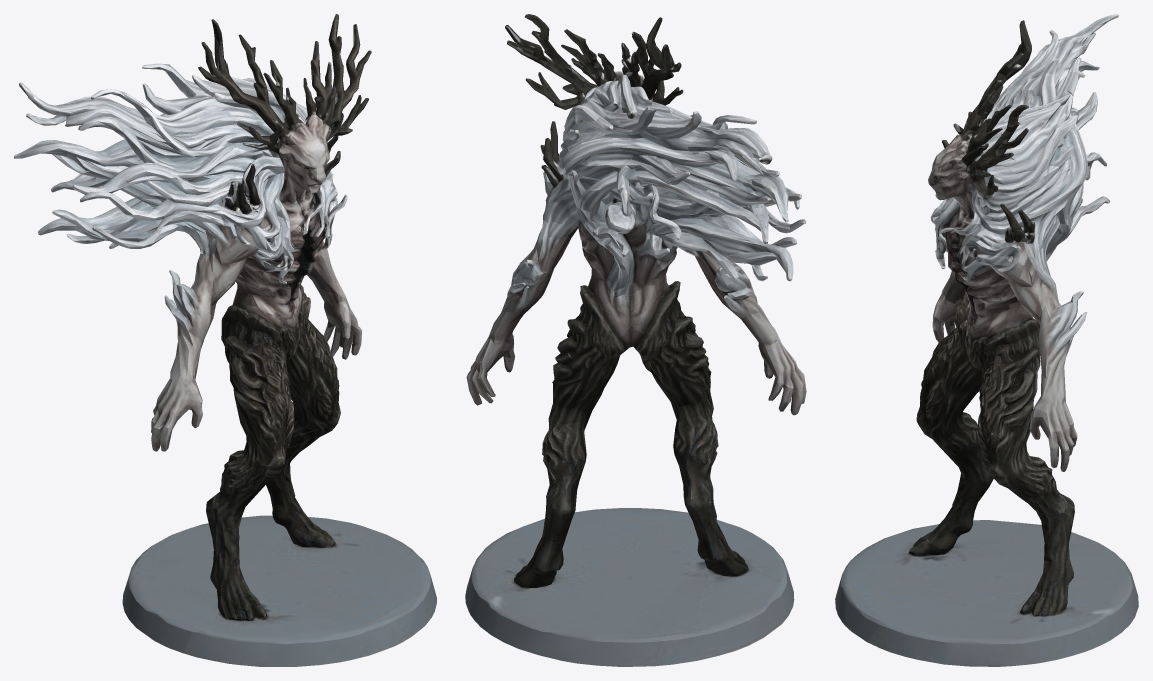
The model's file is esmeria.glb.
The picture shows the model from 3 angles, left to right: view 1: azimuth 30°, elevation 25°; view 2: azimuth 150°, elevation 25°; view 3: azimuth 270°, elevation 25°; orthographic projection. The views are drawn at different scales.
Parts seen in each view (by area): view 1: output_unwrapped; view 2: output_unwrapped; view 3: output_unwrapped.
Boxes of the visible parts, x1,y1,x2,y2 form: output_unwrapped: [14, 14, 436, 666]; output_unwrapped: [465, 14, 806, 666]; output_unwrapped: [835, 14, 1138, 666].
Size of the model in its own units: 1.18 by 1.9 by 0.9356.
Materials: 1 (1 with a texture image).
